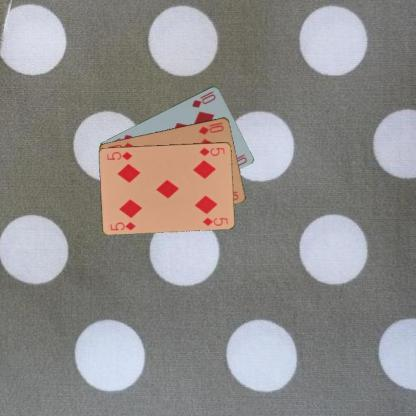10d: (189, 88, 217, 108), (196, 120, 226, 136)
5d: (107, 220, 137, 232), (197, 145, 226, 157)
